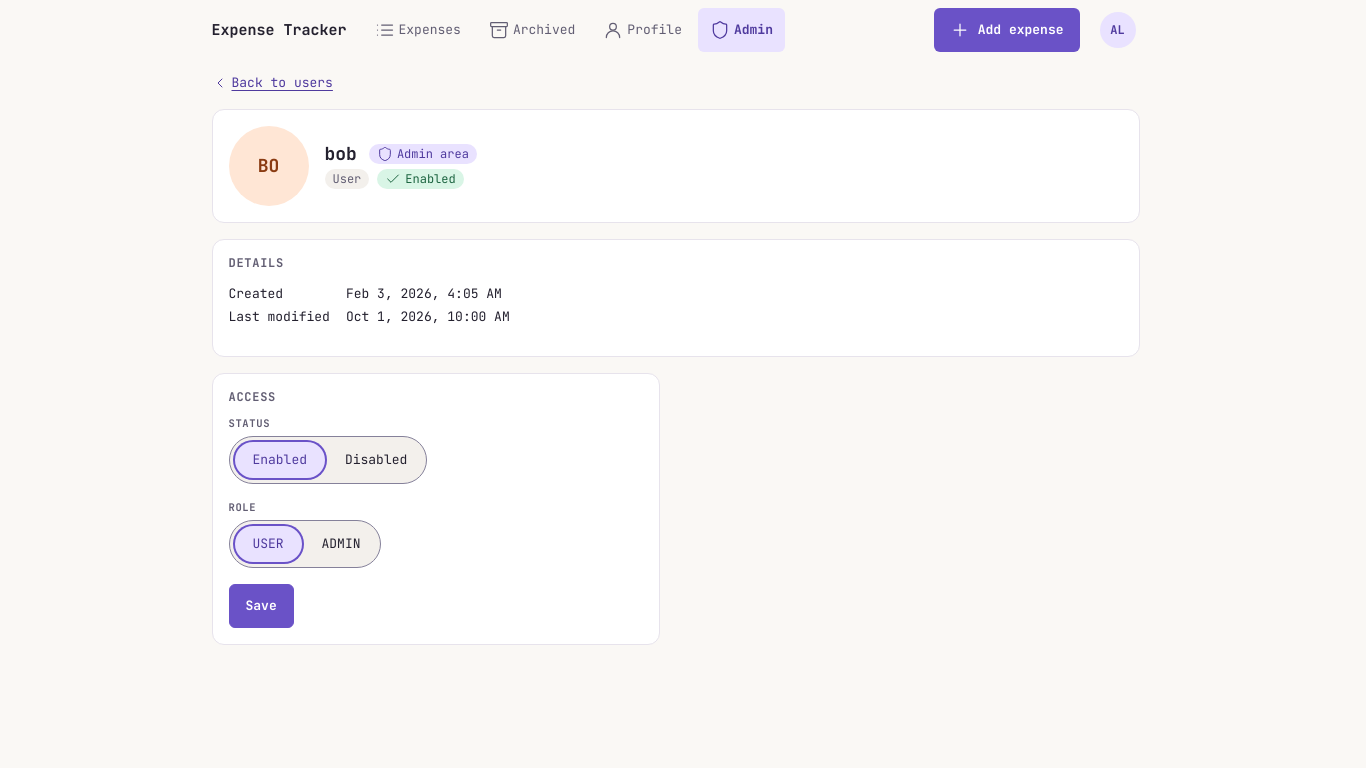
Scenario: edit user › offers Reload on CONCURRENT_MODIFICATION and keeps the input
expect the heading "bob" is shown: met, box [324, 144, 357, 165]
Click the radio button labelled "ADMIN".
click(341, 543)  # box [322, 535, 360, 552]
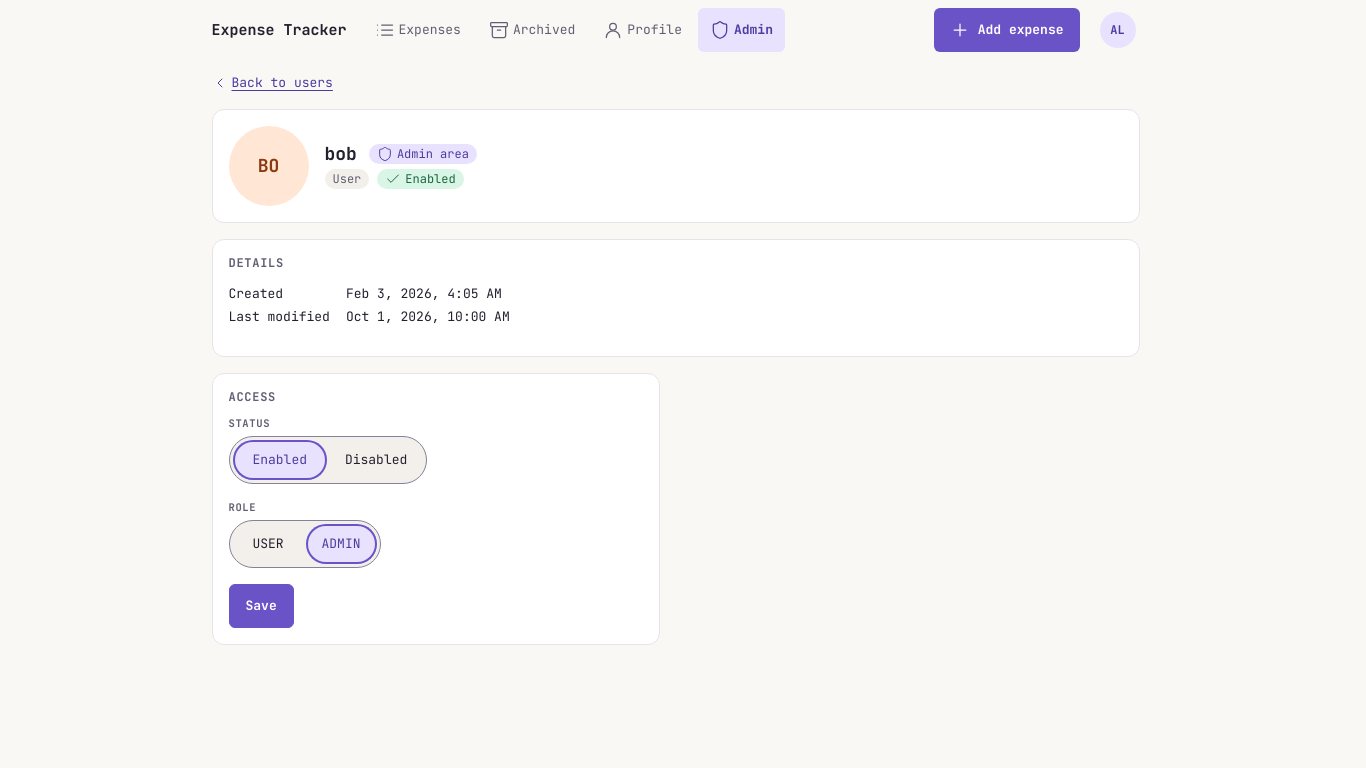
Click the button "Save".
click(261, 606)  # box [228, 584, 294, 628]
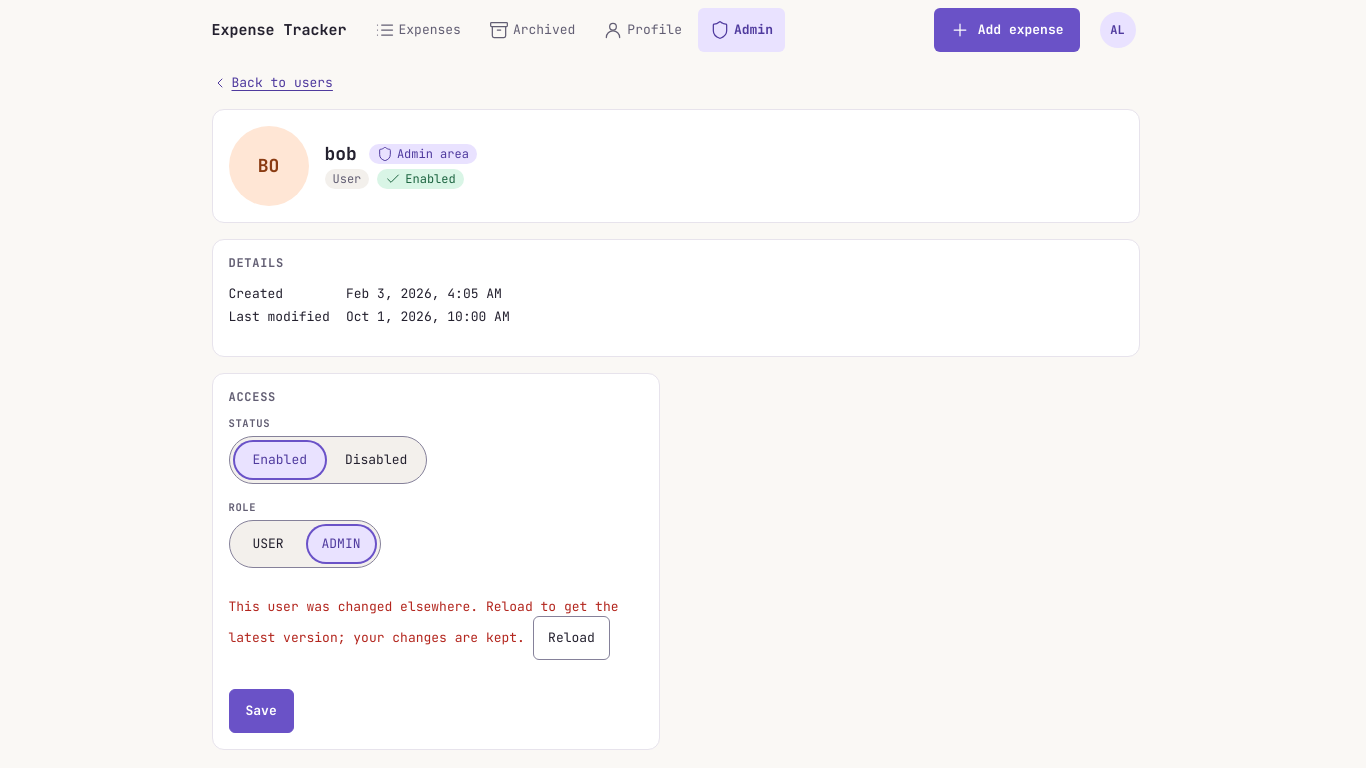
expect the text "This user was changed elsewhere" is shown: met, box [228, 598, 618, 646]
Click the button "Reload".
click(572, 638)  # box [533, 616, 610, 660]
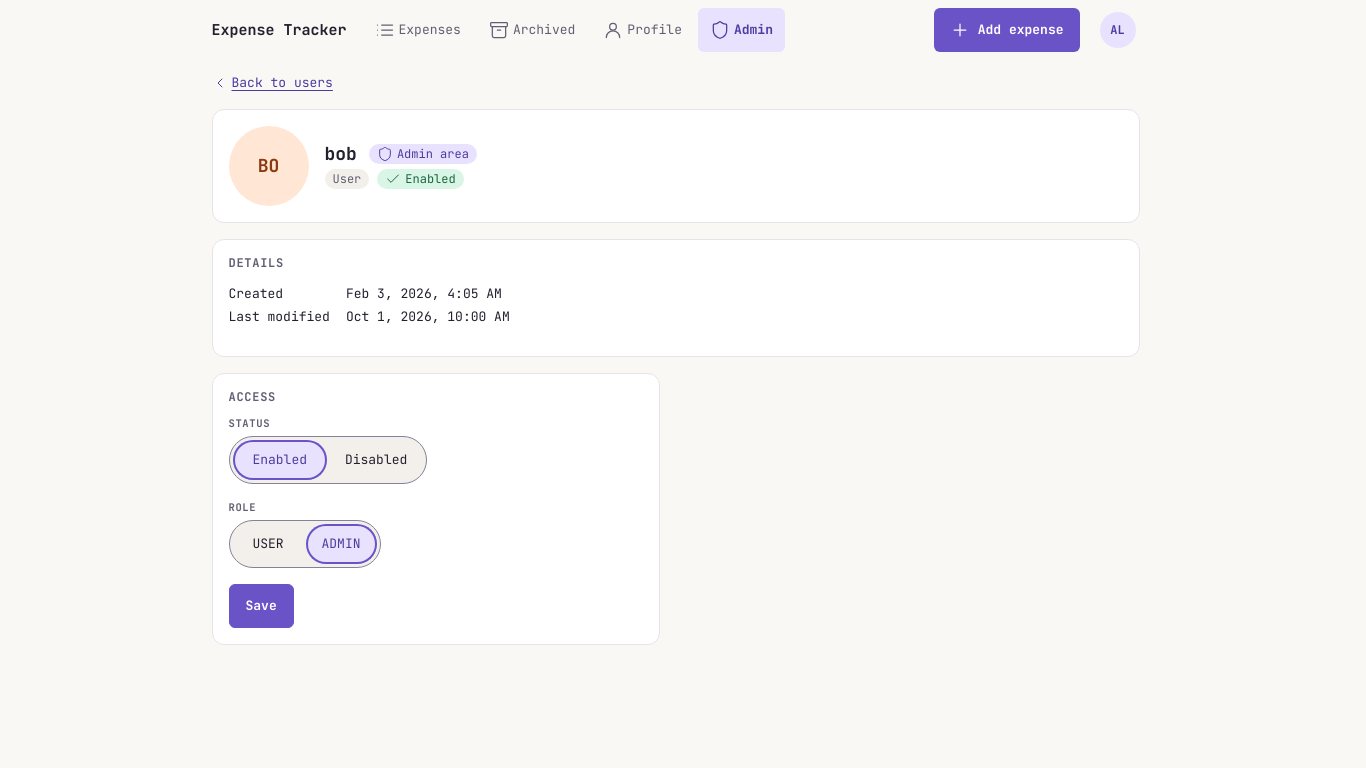
expect the radio button labelled "ADMIN" is checked: met, box [306, 524, 376, 564]
Click the button "Save".
click(261, 606)  # box [228, 584, 294, 628]
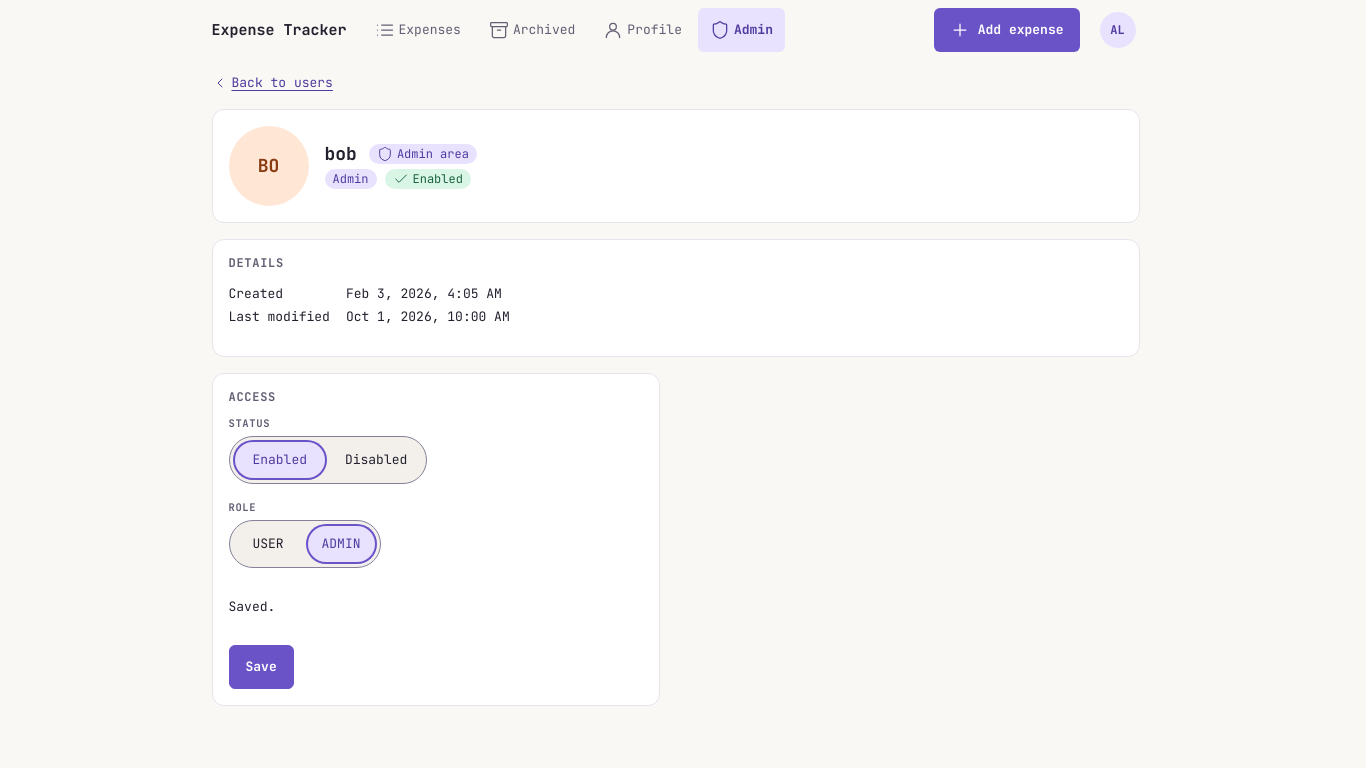
expect the text "Saved." is shown: met, box [228, 598, 275, 614]
